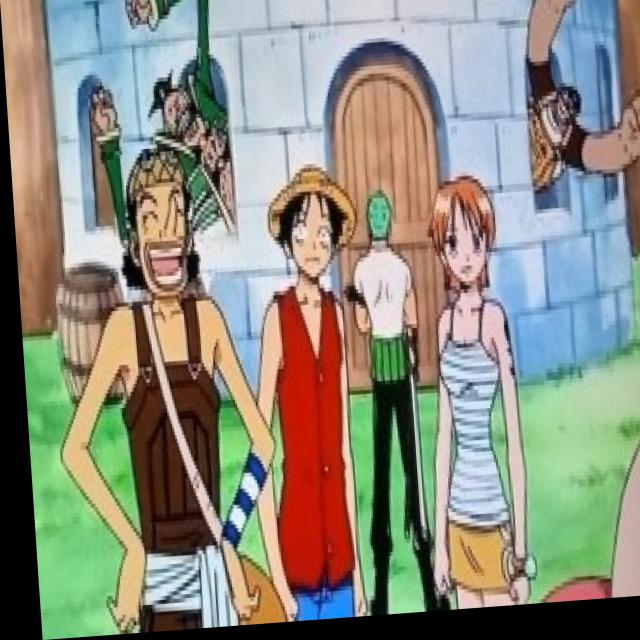Luffy: (253, 156, 367, 302)
Nami: (417, 168, 496, 310)
Usopp: (111, 136, 206, 316)
Zoro: (357, 190, 393, 265)
